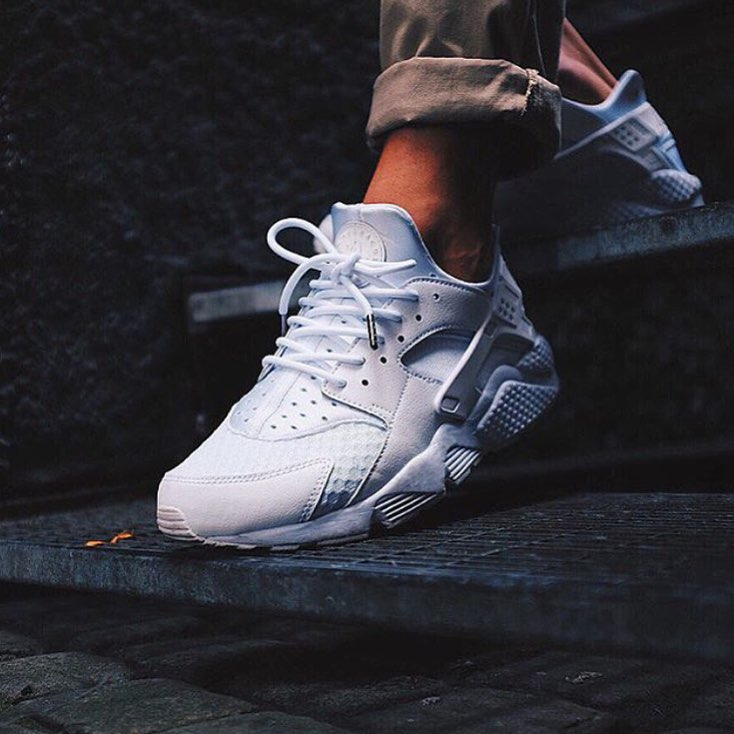sneaker: (134, 141, 601, 597), (462, 1, 718, 237)
